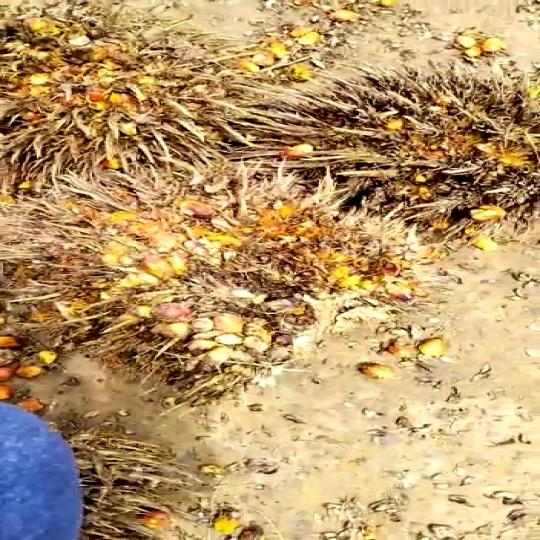terlalu masak: (0, 170, 417, 374), (0, 21, 278, 176), (268, 73, 540, 224)
